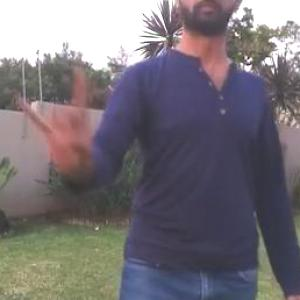takeoff-hand: (17, 77, 103, 174)
